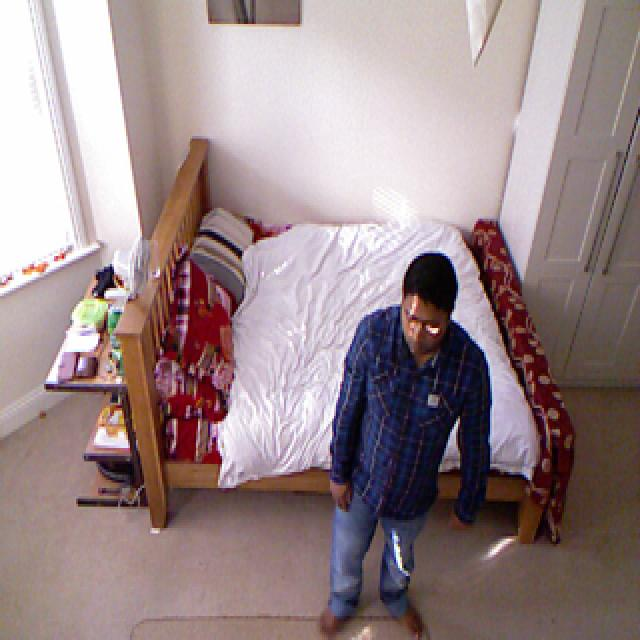standing: (328, 247, 492, 630)
